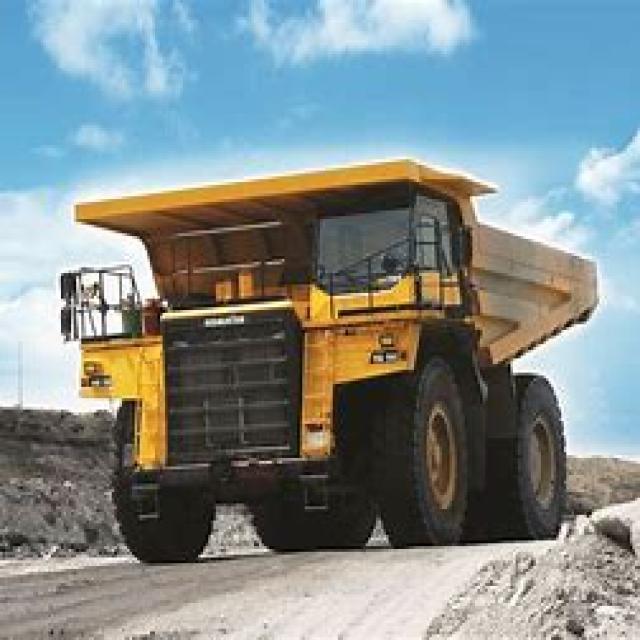dump_truck: (38, 157, 605, 560)
